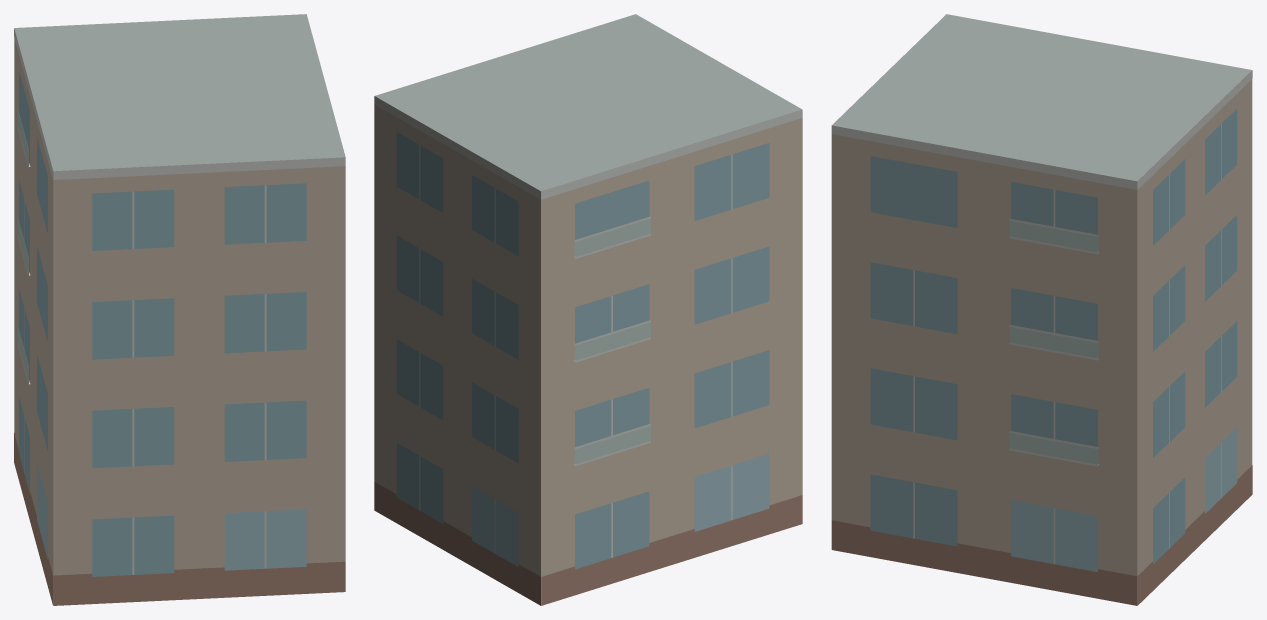
Rendered from survey-upis-32530118.glb.
The picture shows the model from 3 angles, left to right: view 1: azimuth 30°, elevation 25°; view 2: azimuth 150°, elevation 25°; view 3: azimuth 270°, elevation 25°; orthographic projection. The views are drawn at different scales.
Parts seen in each view (by area): view 1: survey-upis-32530118.tmp; view 2: survey-upis-32530118.tmp; view 3: survey-upis-32530118.tmp.
Part boxes in pixels (x1=…): survey-upis-32530118.tmp: x1=14, y1=14, x2=345, y2=605; survey-upis-32530118.tmp: x1=374, y1=14, x2=802, y2=605; survey-upis-32530118.tmp: x1=831, y1=14, x2=1252, y2=605.
Bounding box in the file's own units: 10.16 × 12 × 10.79.
